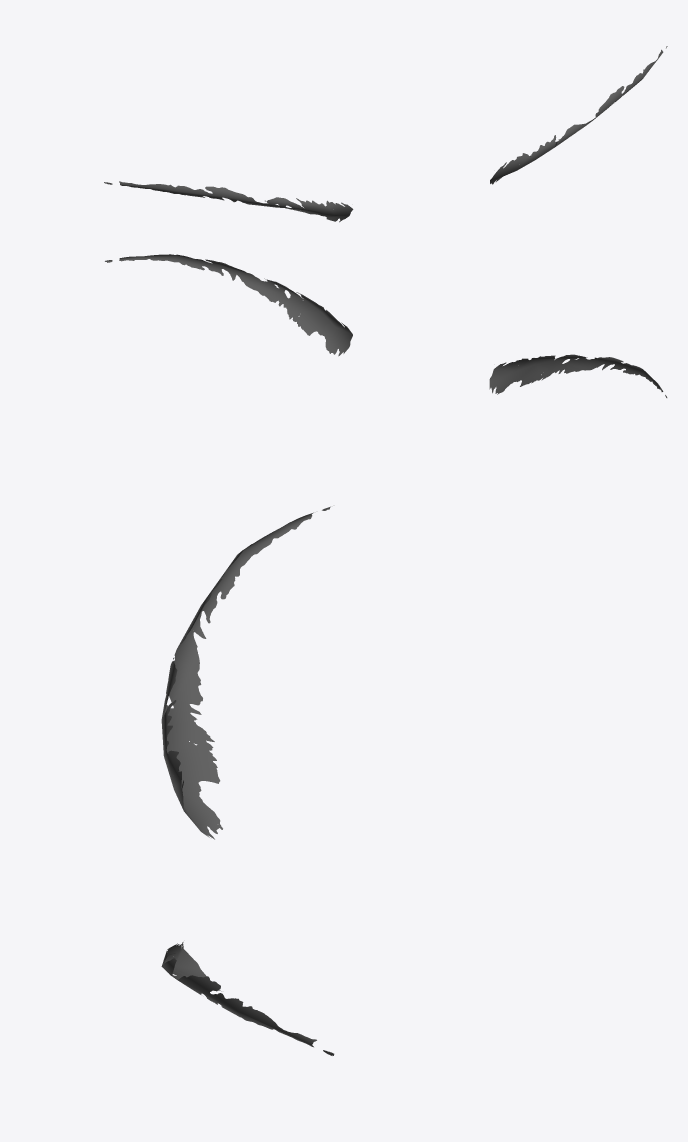
Rendered from brow007.glb.
3 renders of one model, top to bottom at view 1: azimuth 30°, elevation 25°; view 2: azimuth 150°, elevation 25°; view 3: azimuth 270°, elevation 25°, orthographic. The views are drawn at different scales.
Visible parts, largest first — view 1: editor_brow007; view 2: editor_brow007; view 3: editor_brow007.
Part boxes in pixels (x1,y1,x2,y2): editor_brow007: [104, 46, 667, 222]; editor_brow007: [105, 254, 667, 397]; editor_brow007: [161, 506, 334, 1055].
Bounding box in the file's own units: 0.1025 × 0.0119 × 0.0249.
1 material, 1 textured.
